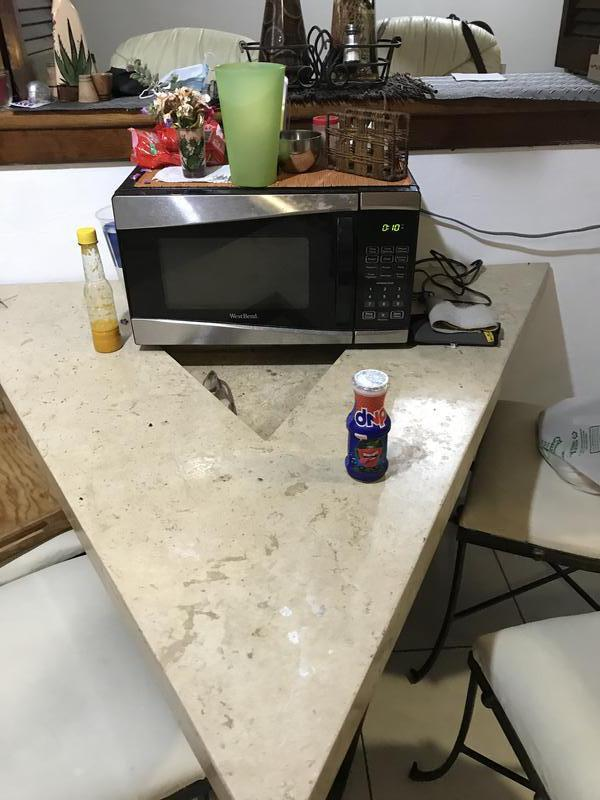danup: (346, 368, 394, 484)
